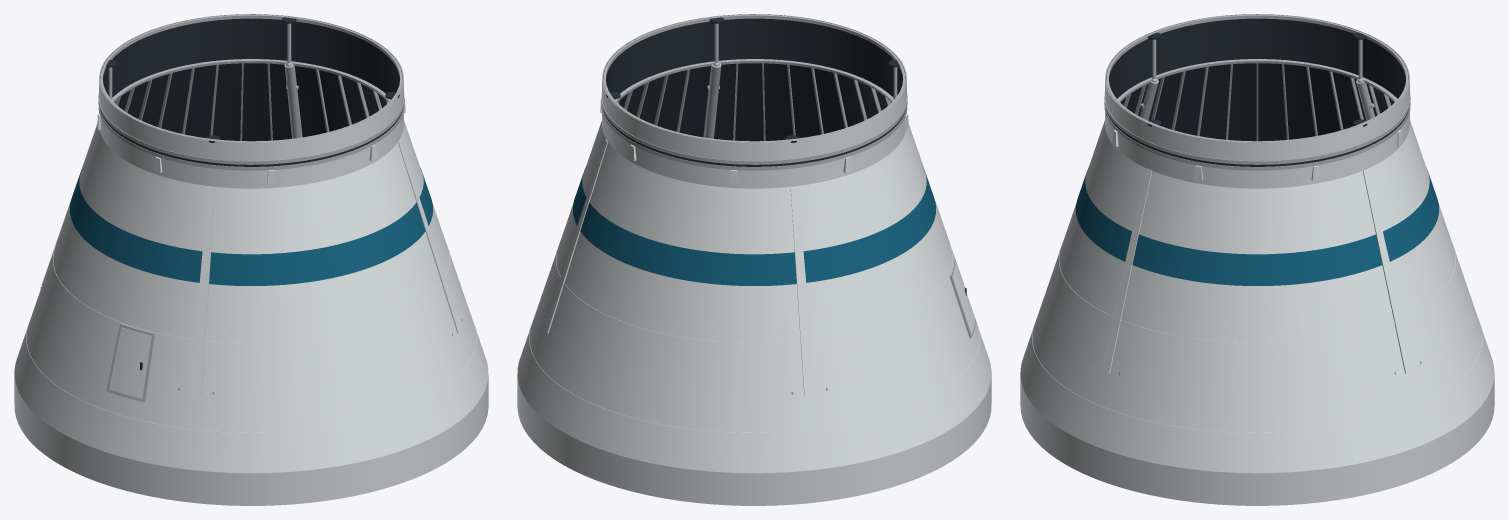
The model's file is interstage_pneumatic_d84_to_d54.fbx.
The picture shows the model from 3 angles, left to right: view 1: azimuth 30°, elevation 25°; view 2: azimuth 150°, elevation 25°; view 3: azimuth 270°, elevation 25°; orthographic projection.
Visible parts, largest first — view 1: interstage_pneumatic_d84_to_d54_LOD0; view 2: interstage_pneumatic_d84_to_d54_LOD0; view 3: interstage_pneumatic_d84_to_d54_LOD0.
Boxes of the visible parts, <box> form: interstage_pneumatic_d84_to_d54_LOD0: <box>14,14,488,505</box>; interstage_pneumatic_d84_to_d54_LOD0: <box>517,14,991,505</box>; interstage_pneumatic_d84_to_d54_LOD0: <box>1020,14,1494,505</box>.
Size of what is drawn, in the model's own units: 8.4 by 6.4 by 8.4.
